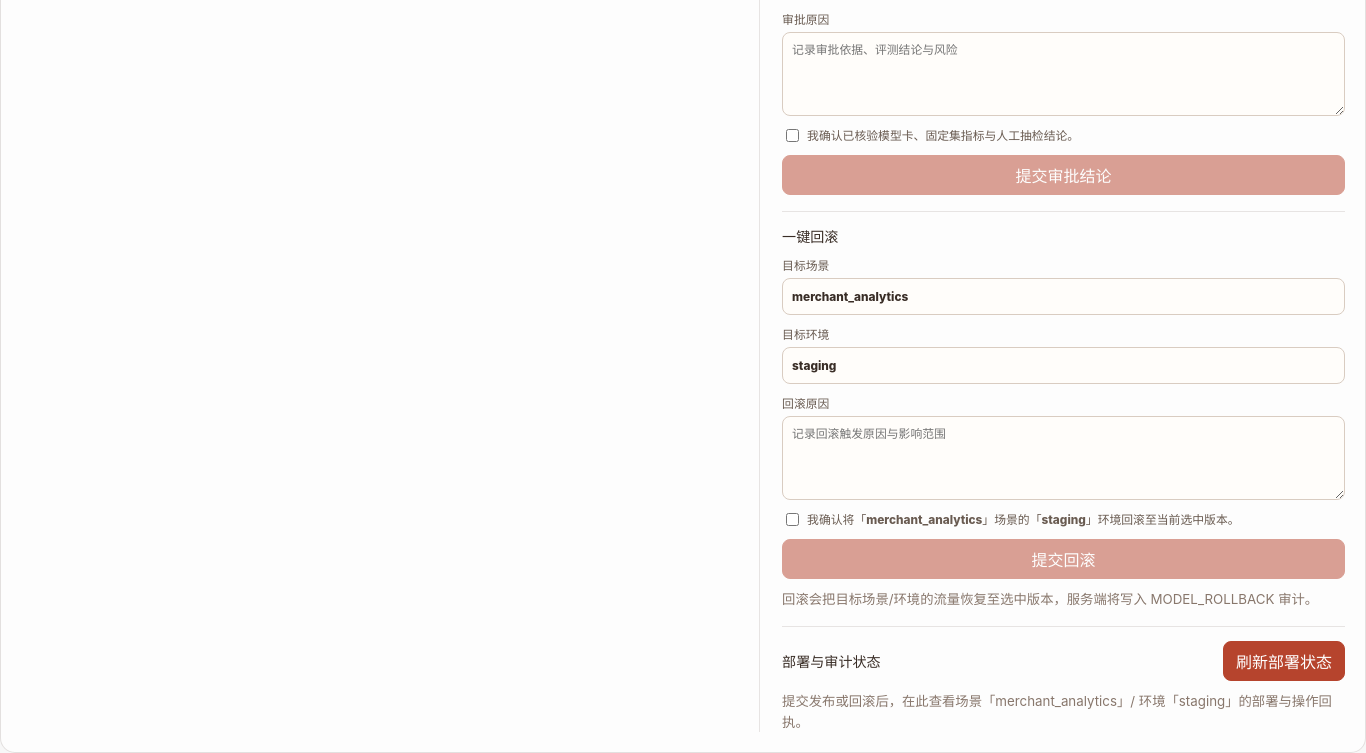
ModelLifecycleWorkbench › rolls back through the documented endpoint and refreshes deployments and audit receipt
The width and height of the screenshot is (1366, 753).
(page scrolled)
expect the submit button is disabled: met, box [782,540,1345,580]
Type "灰度错误率超过阈值，执行回滚。" into the text box labelled "回滚原因" at (1064, 458), box [782,416,1345,500]
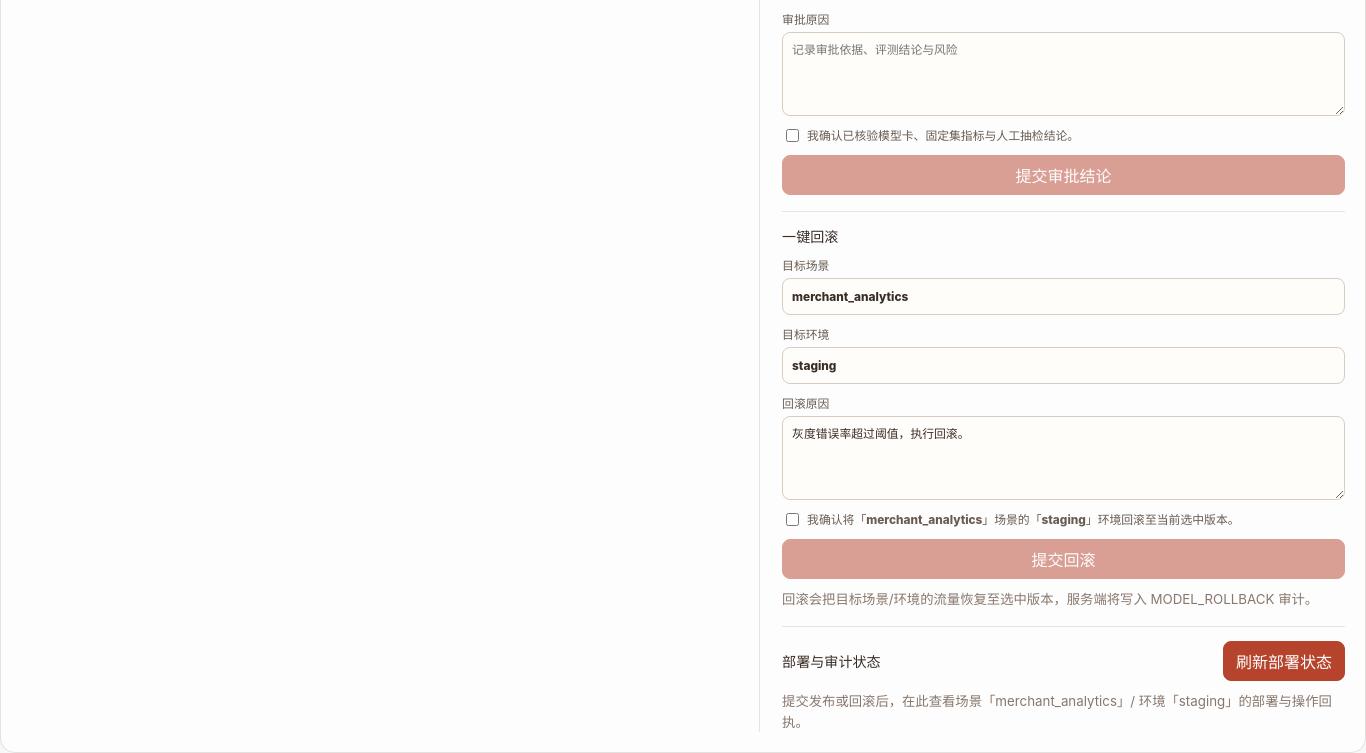
Click the checkbox labelled "我确认将「merchant_analytics」场景的「staging」环境回滚至当前选中版本。" at (793, 520), box [786,514,799,526]
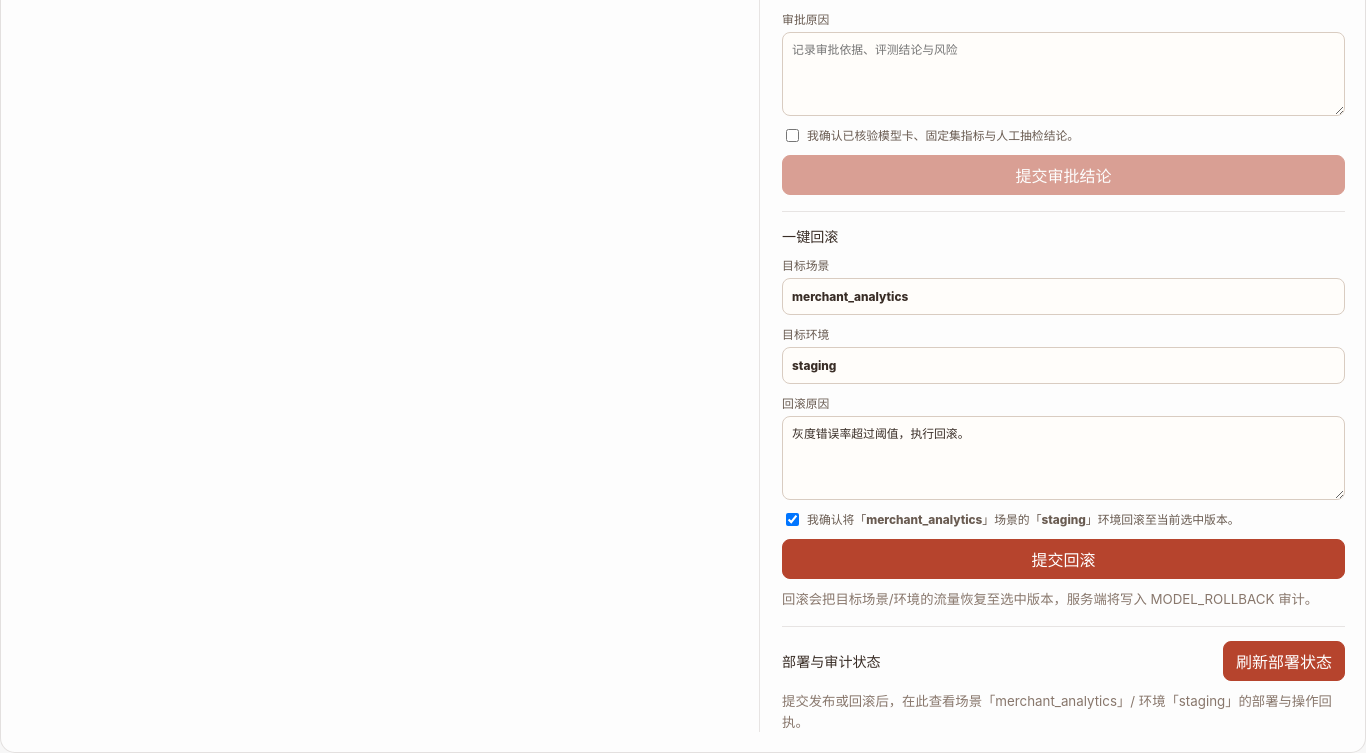
expect the submit button is enabled: met, box [782,540,1345,580]
Submit the form that starts with "一键回滚", box [782,212,1345,610]
(page scrolled)
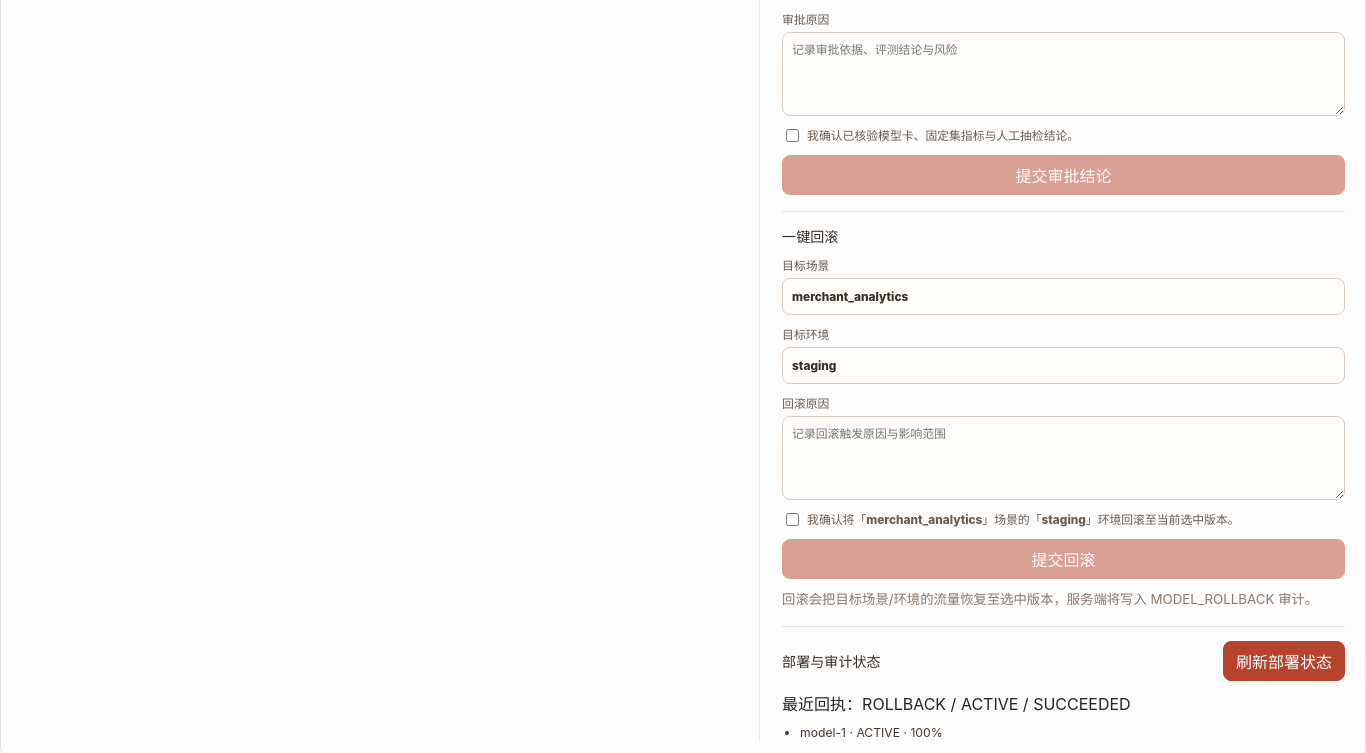
expect the text "最近回执：ROLLBACK / ACTIVE / SUCCEEDED" is shown: met, box [782,694,1131,714]
